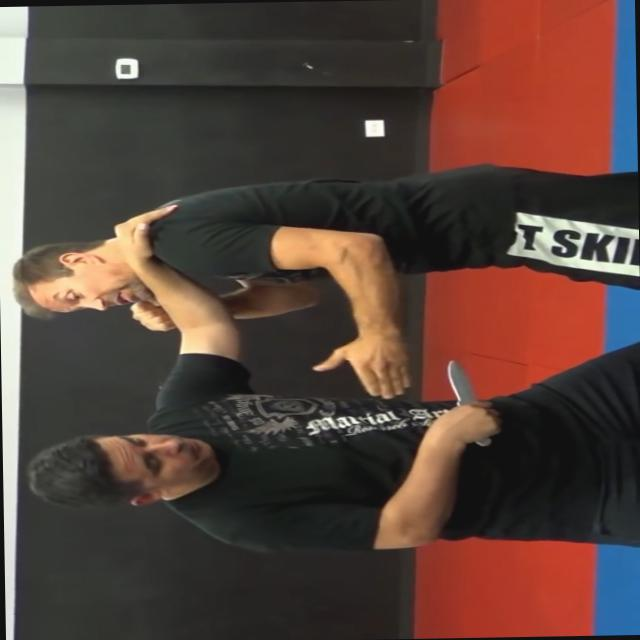knife: (437, 353, 505, 448)
